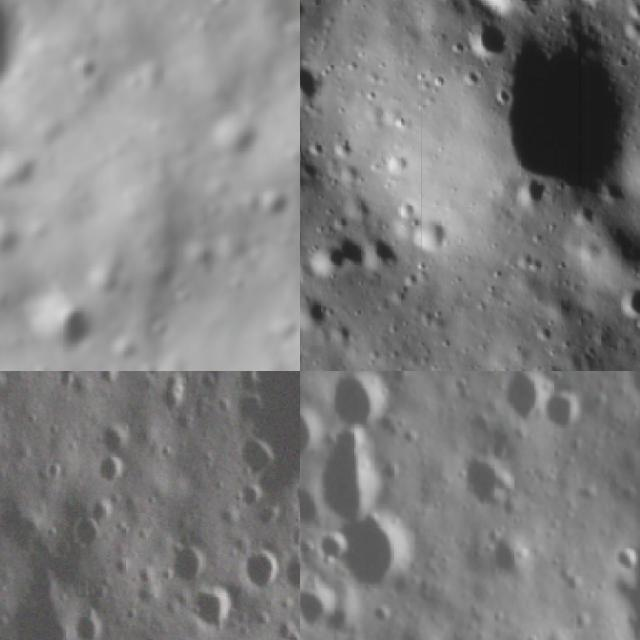crater: (503, 36, 635, 209), (326, 510, 420, 613), (222, 371, 300, 493), (317, 435, 389, 522), (316, 371, 392, 432), (36, 287, 94, 358), (456, 456, 518, 520), (227, 428, 281, 488), (481, 535, 536, 593), (542, 385, 592, 443), (210, 105, 264, 158), (494, 371, 543, 429), (188, 585, 235, 640), (304, 237, 368, 277), (458, 15, 509, 62), (0, 151, 49, 196), (66, 503, 106, 557), (84, 454, 134, 496), (240, 549, 282, 598), (96, 409, 132, 463), (415, 210, 456, 256), (156, 378, 196, 423), (169, 546, 207, 592), (64, 605, 108, 640), (300, 290, 333, 335), (512, 174, 548, 212), (276, 548, 300, 603), (0, 221, 30, 261), (300, 55, 321, 112), (252, 184, 289, 216), (616, 282, 640, 330), (204, 0, 238, 11)
